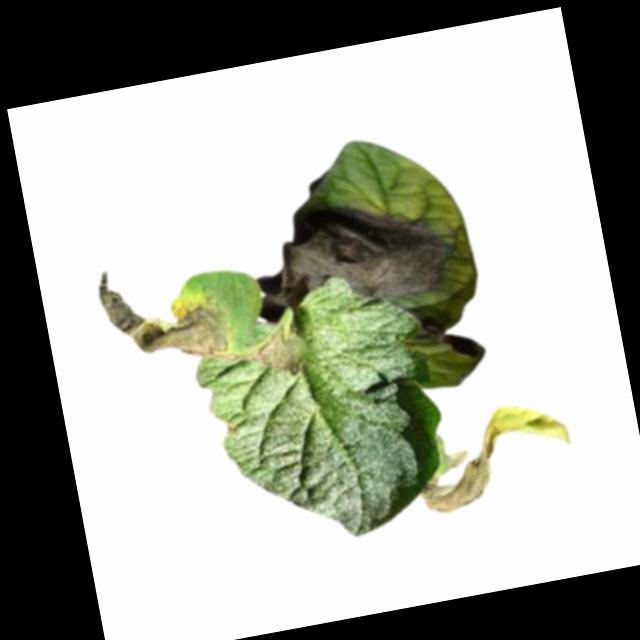Late_blight: (242, 183, 460, 322), (408, 393, 582, 519), (94, 249, 234, 377), (252, 326, 301, 377)
healthy: (182, 261, 459, 560)
